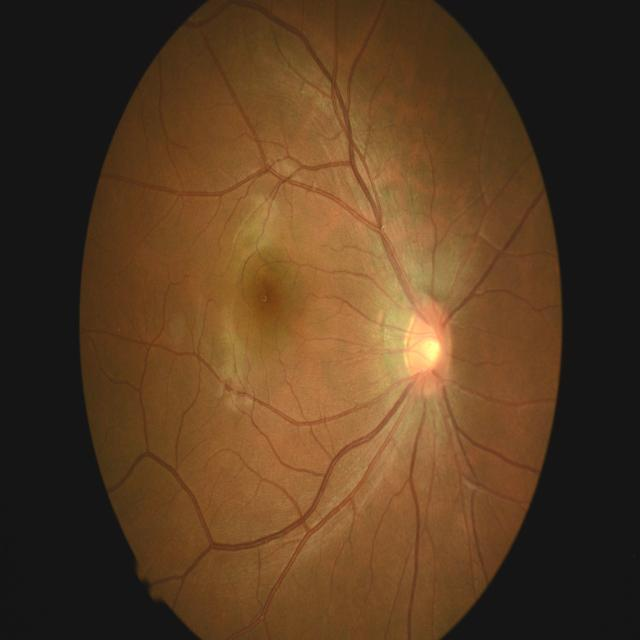cup: (416, 316, 442, 378)
disk: (404, 302, 452, 396)
